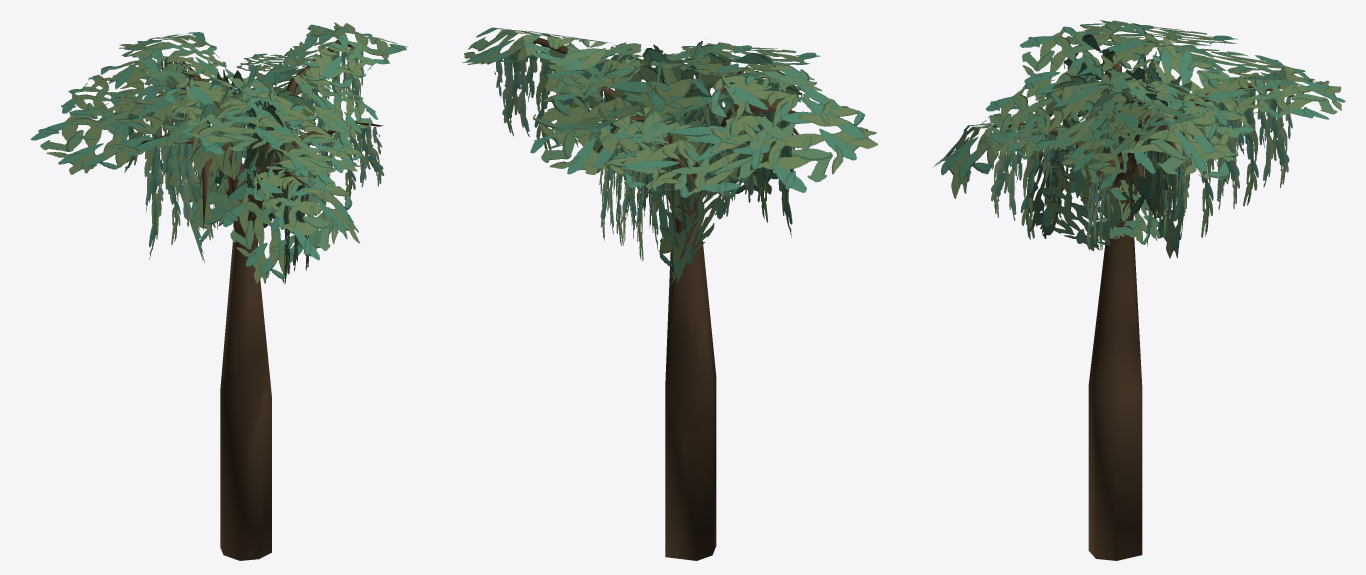
File: Tree_3.fbx
3 renders of one model, left to right at view 1: azimuth 30°, elevation 25°; view 2: azimuth 150°, elevation 25°; view 3: azimuth 270°, elevation 25°, orthographic. The views are drawn at different scales.
Visible parts, largest first — view 1: Tree 3; view 2: Tree 3; view 3: Tree 3.
Boxes of the visible parts, <box> form: Tree 3: <box>30,22,408,560</box>; Tree 3: <box>462,27,878,560</box>; Tree 3: <box>933,20,1345,560</box>.
Size of the model in its own units: 1236 by 1504 by 1173.
